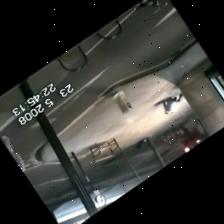person: (0, 135, 24, 172), (162, 94, 181, 113)
